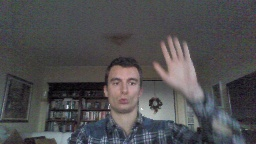Mano_aperta: (150, 33, 199, 94)
